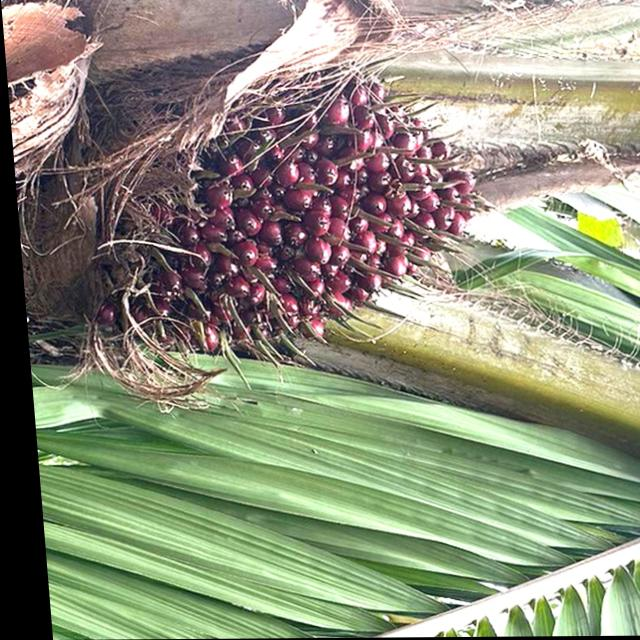ripe: (82, 70, 500, 371)
